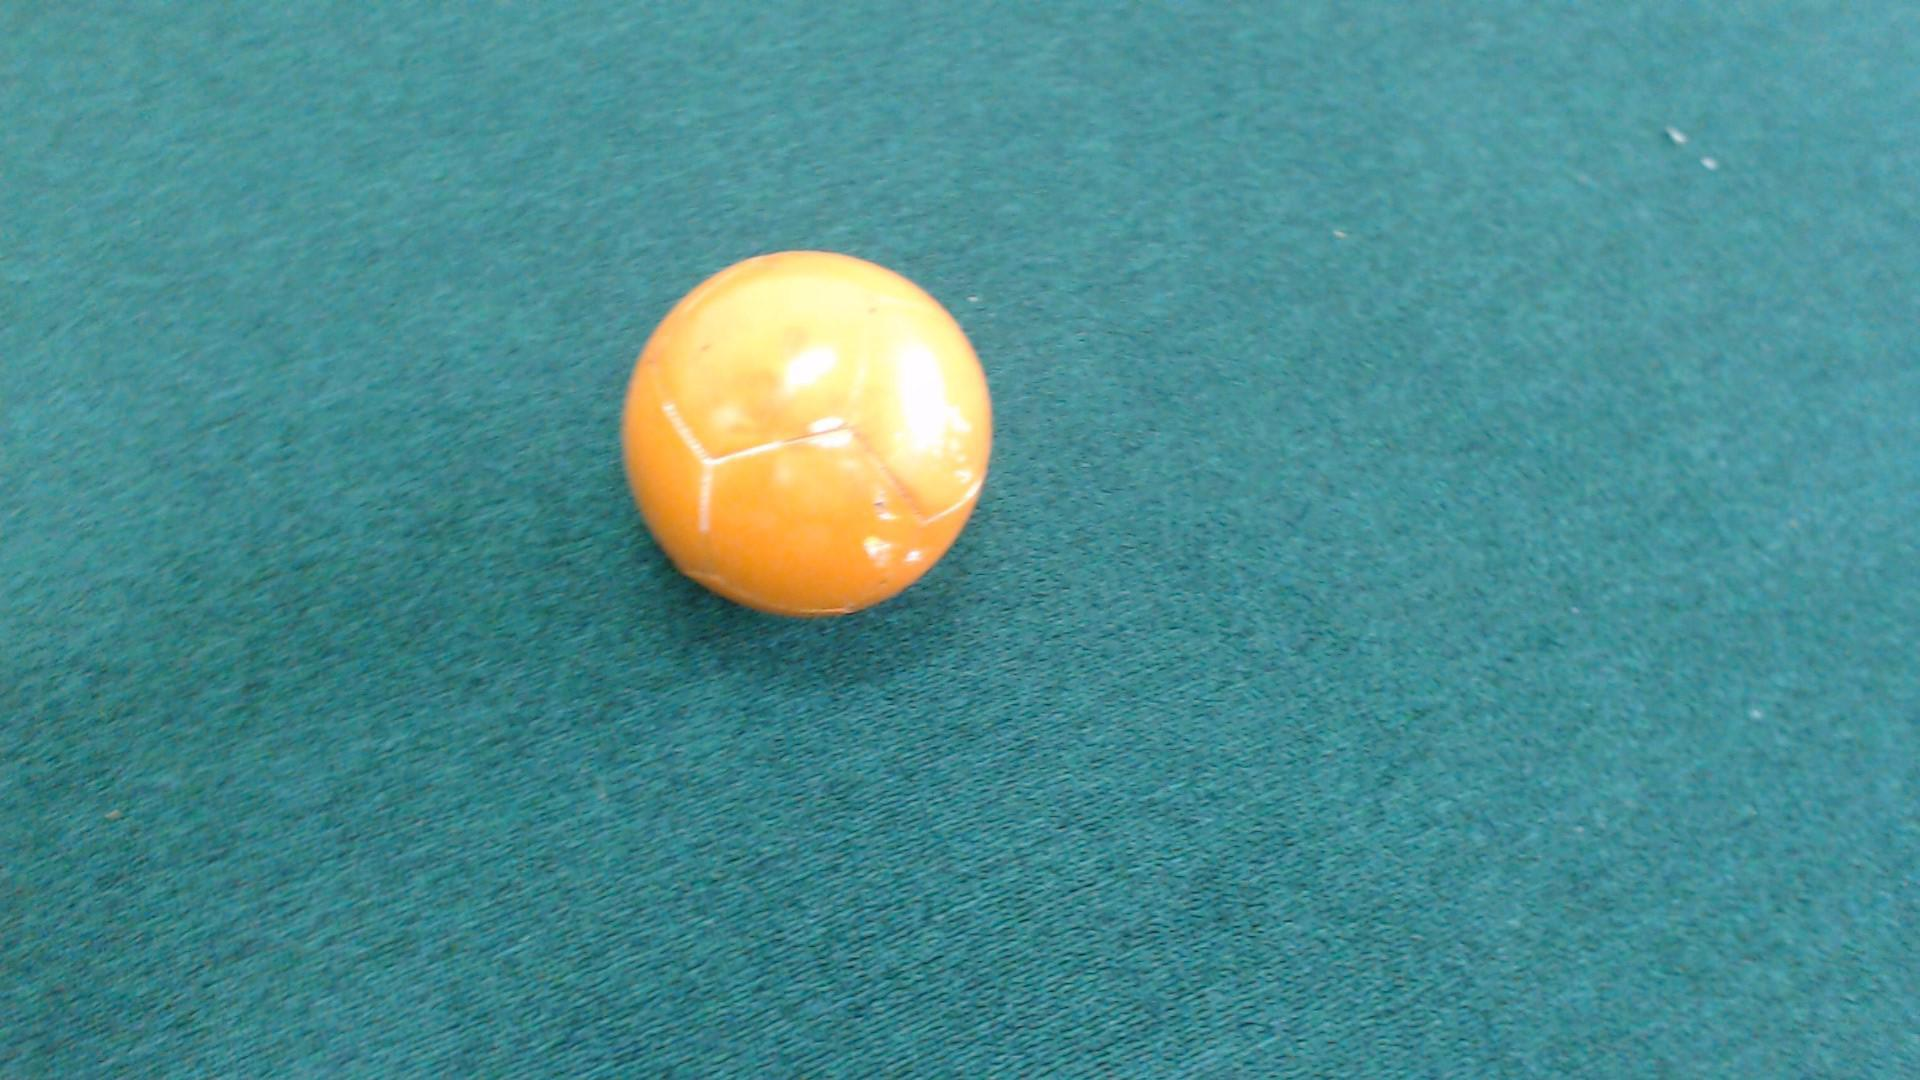bola: (574, 224, 1034, 633)
